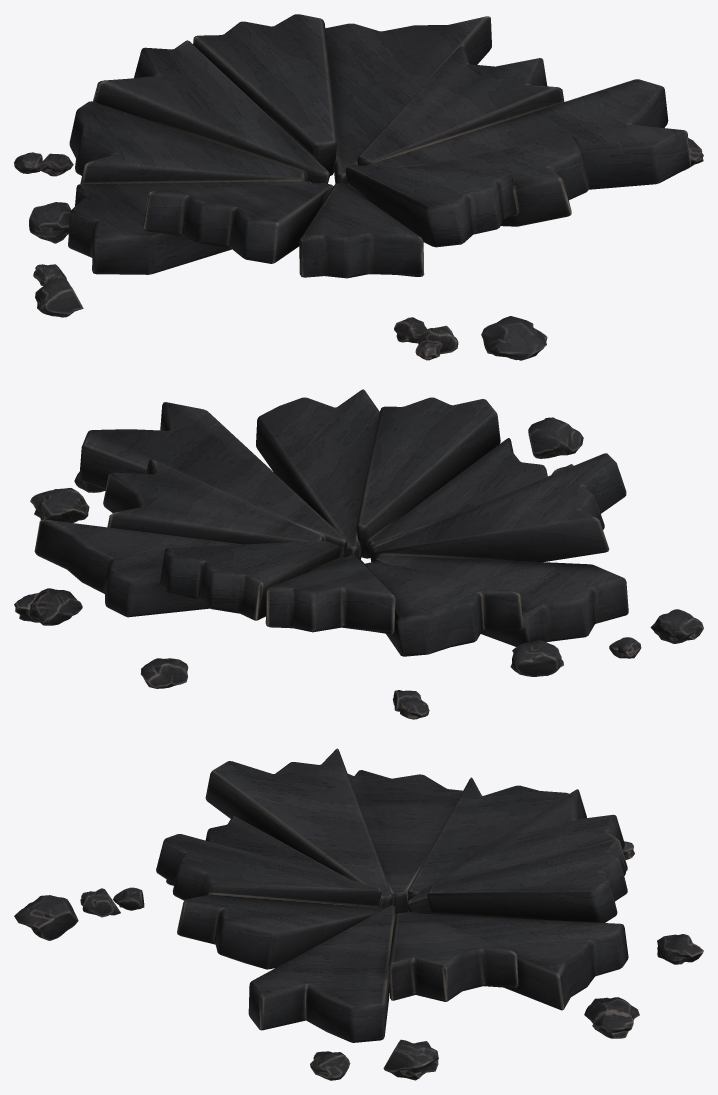
Rendered from CrackedFloor.fbx.
3 renders of one model, top to bottom at view 1: azimuth 30°, elevation 25°; view 2: azimuth 150°, elevation 25°; view 3: azimuth 270°, elevation 25°, orthographic. The views are drawn at different scales.
Visible parts, largest first — view 1: CrackedFloor; view 2: CrackedFloor; view 3: CrackedFloor.
Part boxes in pixels (x1,y1,x2,y2): CrackedFloor: (14, 14, 703, 360); CrackedFloor: (14, 389, 703, 719); CrackedFloor: (14, 748, 703, 1080).
Size of the model in its own units: 707 by 115 by 701.
